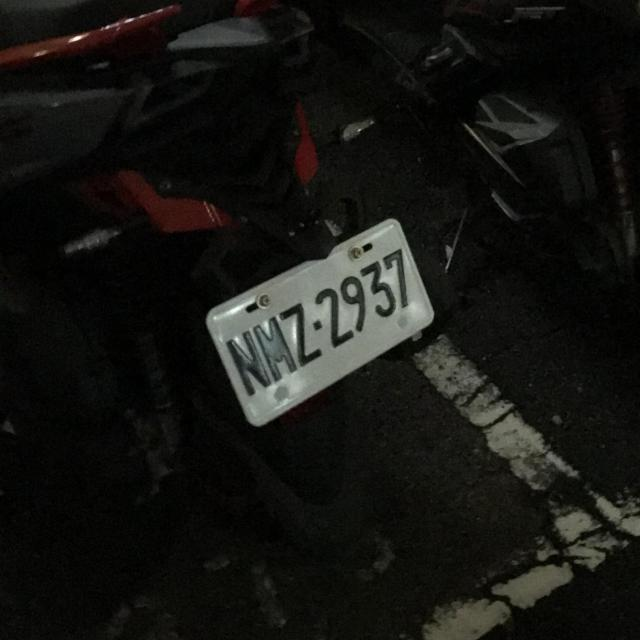W: (190, 213, 450, 435)
